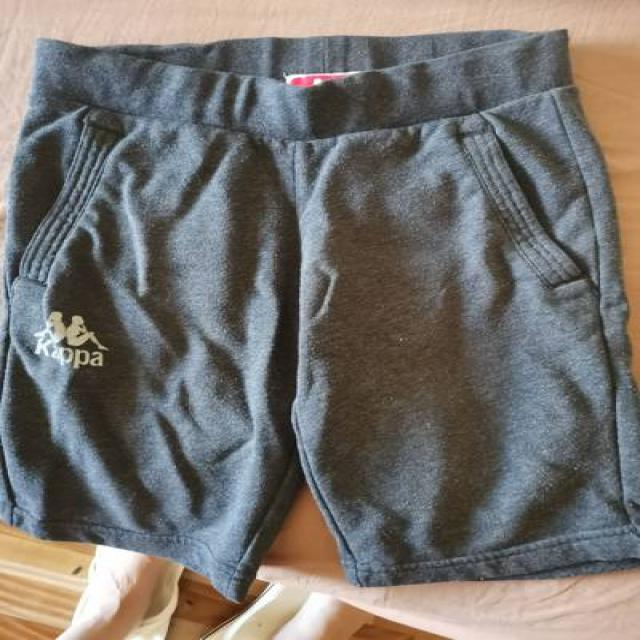Clothes -Biodegradable-: (0, 34, 640, 603)
